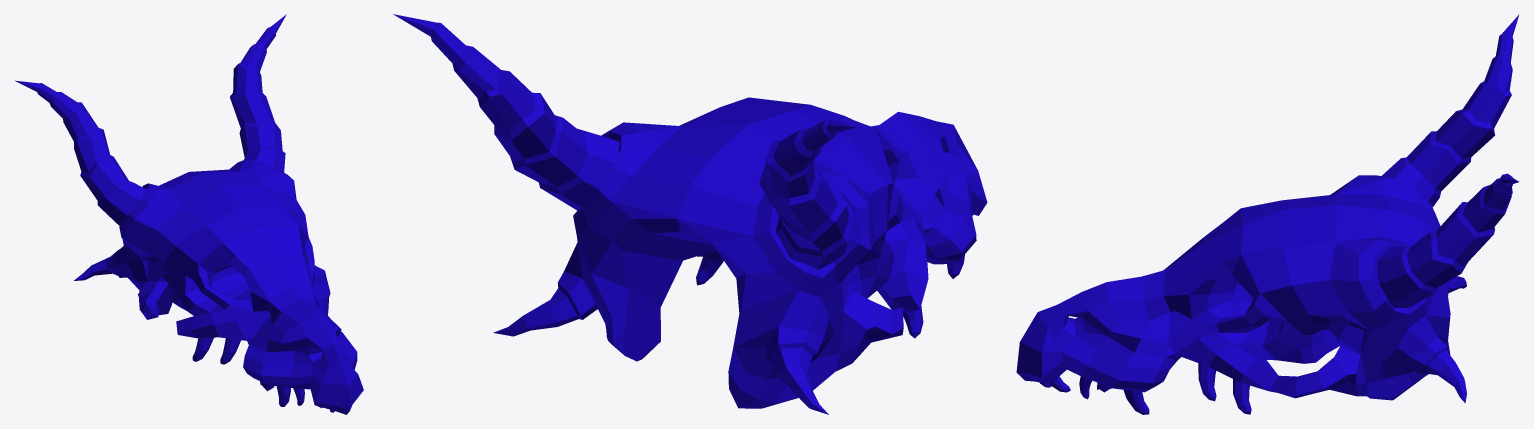
The model's file is skull2.obj.
The picture shows the model from 3 angles, left to right: view 1: azimuth 30°, elevation 25°; view 2: azimuth 150°, elevation 25°; view 3: azimuth 270°, elevation 25°; orthographic projection. The views are drawn at different scales.
Visible parts, largest first — view 1: SM_Env_Bone_Skull_01; view 2: SM_Env_Bone_Skull_01; view 3: SM_Env_Bone_Skull_01.
Part boxes in pixels (x1,y1,x2,y2): SM_Env_Bone_Skull_01: [15, 14, 363, 414]; SM_Env_Bone_Skull_01: [393, 14, 987, 414]; SM_Env_Bone_Skull_01: [1016, 14, 1519, 414].
Bounding box in the file's own units: 9.28 × 7.59 × 11.74.
